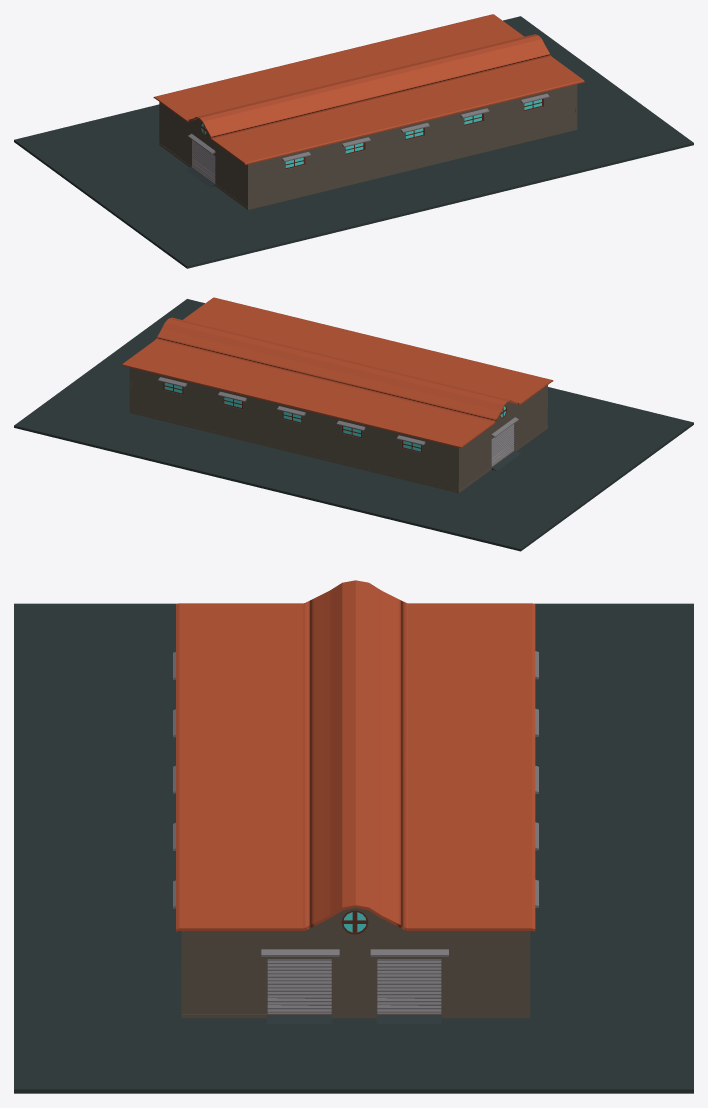
Rendered from bodegasinfallos.fbx.
The picture shows the model from 3 angles, top to bottom: view 1: azimuth 30°, elevation 25°; view 2: azimuth 150°, elevation 25°; view 3: azimuth 270°, elevation 25°; orthographic projection. The views are drawn at different scales.
Parts seen in each view (by area): view 1: CONCRETO, techounido, bodegabase, ventanaiz, rampaiz, puertadeatras; view 2: CONCRETO, techounido, bodegabase, RAMPADERE.004, vidrio.004, puertadeatras; view 3: CONCRETO, techounido, bodegabase, puertametalderecha, puertametalizquierda, RAMPADos.
Part boxes in pixels (left/top/right/bottom): CONCRETO: left=14, top=16, right=693, bottom=268; techounido: left=153, top=14, right=584, bottom=164; bodegabase: left=159, top=84, right=577, bottom=209; ventanaiz: left=285, top=99, right=543, bottom=169; rampaiz: left=282, top=93, right=549, bottom=161; puertadeatras: left=192, top=140, right=215, bottom=182; CONCRETO: left=14, top=299, right=693, bottom=551; techounido: left=122, top=297, right=553, bottom=448; bodegabase: left=129, top=367, right=547, bottom=493; RAMPADERE.004: left=158, top=377, right=425, bottom=445; vidrio.004: left=163, top=382, right=361, bottom=437; puertadeatras: left=491, top=424, right=514, bottom=466; CONCRETO: left=14, top=603, right=693, bottom=1093; techounido: left=176, top=580, right=535, bottom=931; bodegabase: left=181, top=907, right=530, bottom=1018; puertametalderecha: left=377, top=959, right=441, bottom=1013; puertametalizquierda: left=267, top=959, right=331, bottom=1013; RAMPADos: left=261, top=949, right=448, bottom=956.
Bounding box in the file's own units: 25562 × 3022 × 15126.
